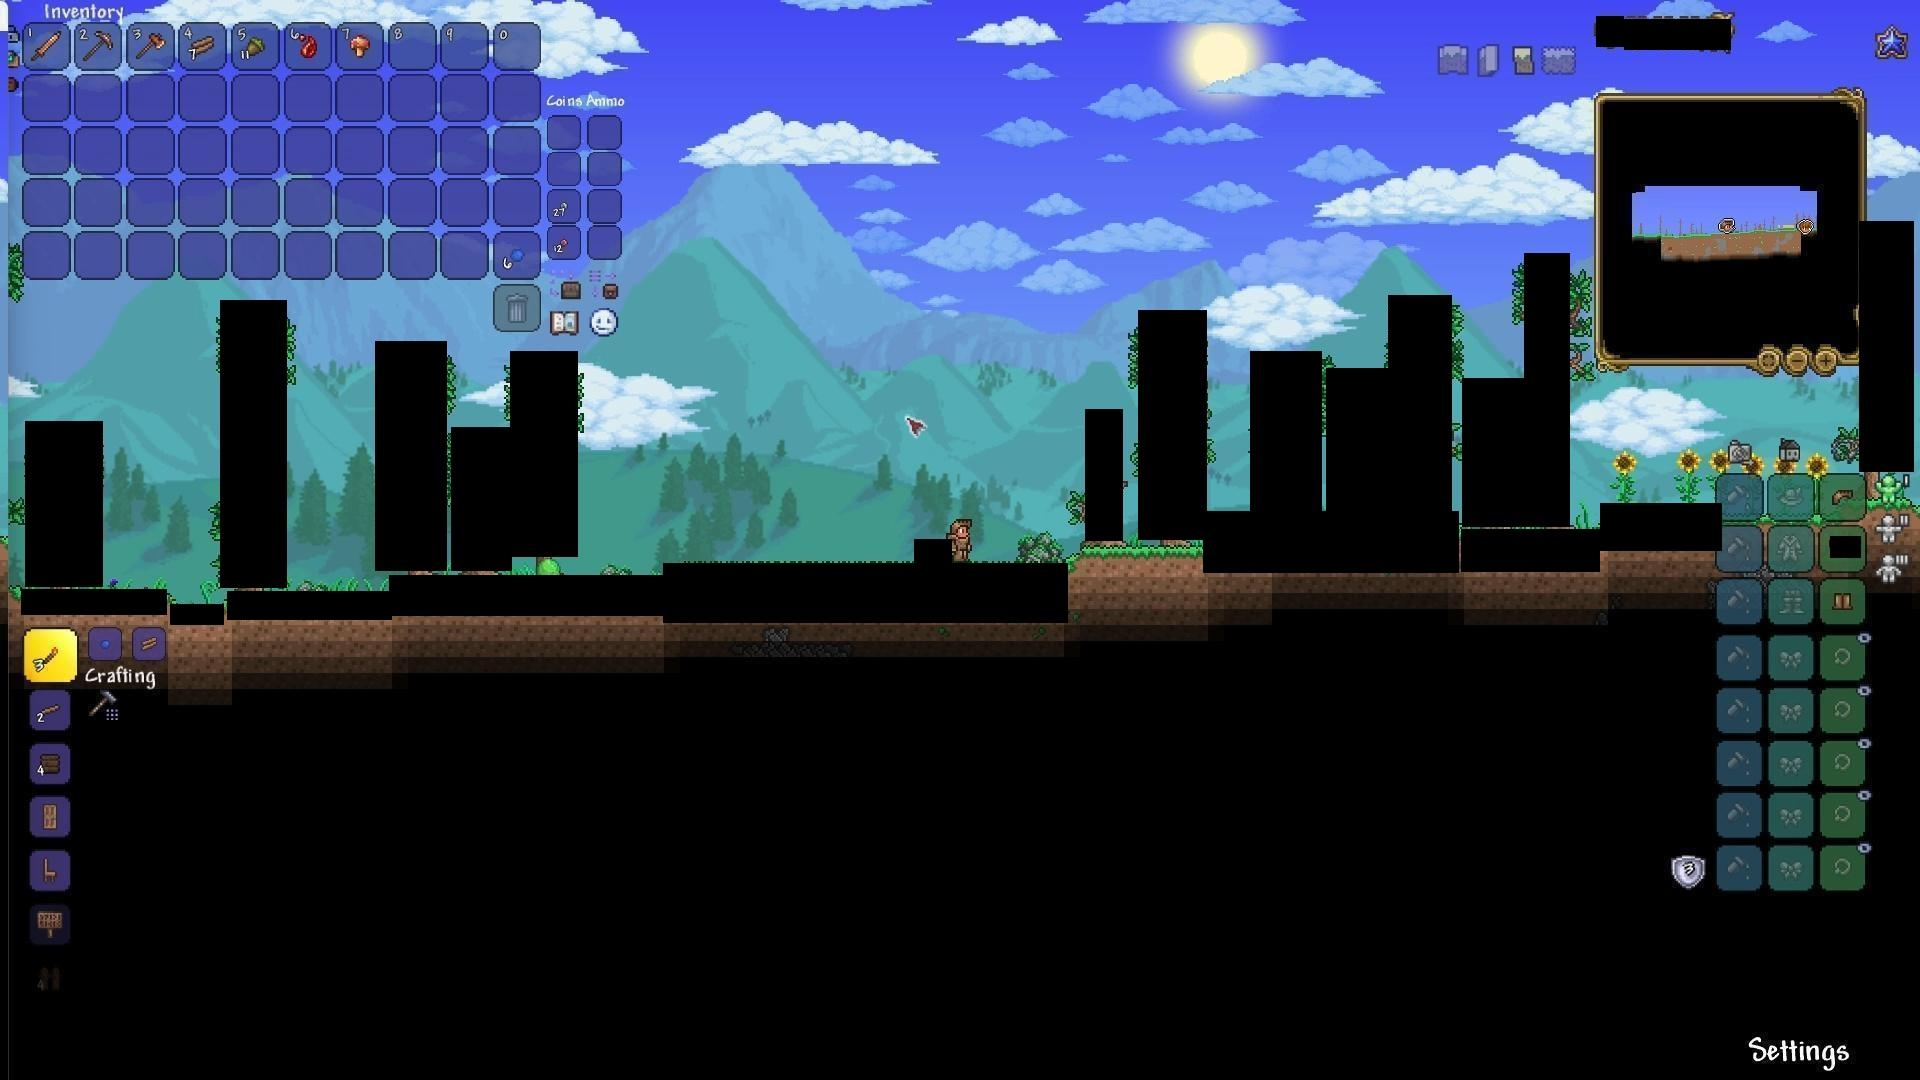dirt: (1065, 546, 1207, 589)
helmet: (1832, 483, 1858, 506)
legs: (1832, 588, 1855, 616)
slime: (531, 558, 567, 583)
wood: (187, 32, 218, 61), (136, 632, 164, 657)
